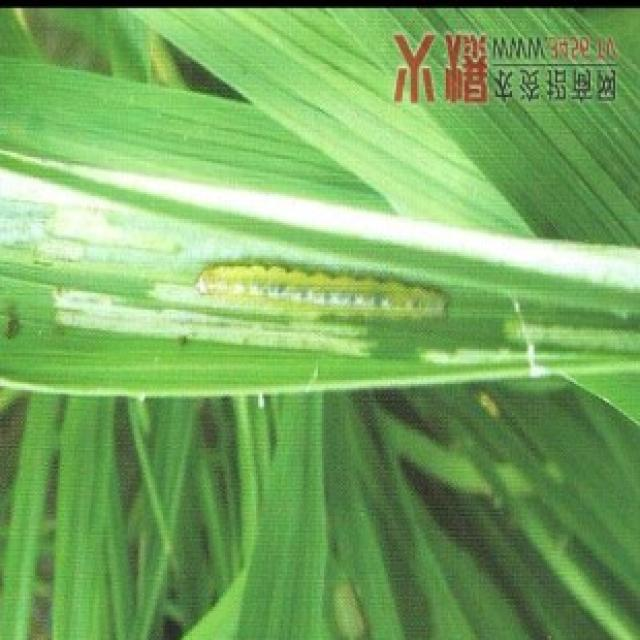rice leaf roller: (196, 264, 444, 318)
